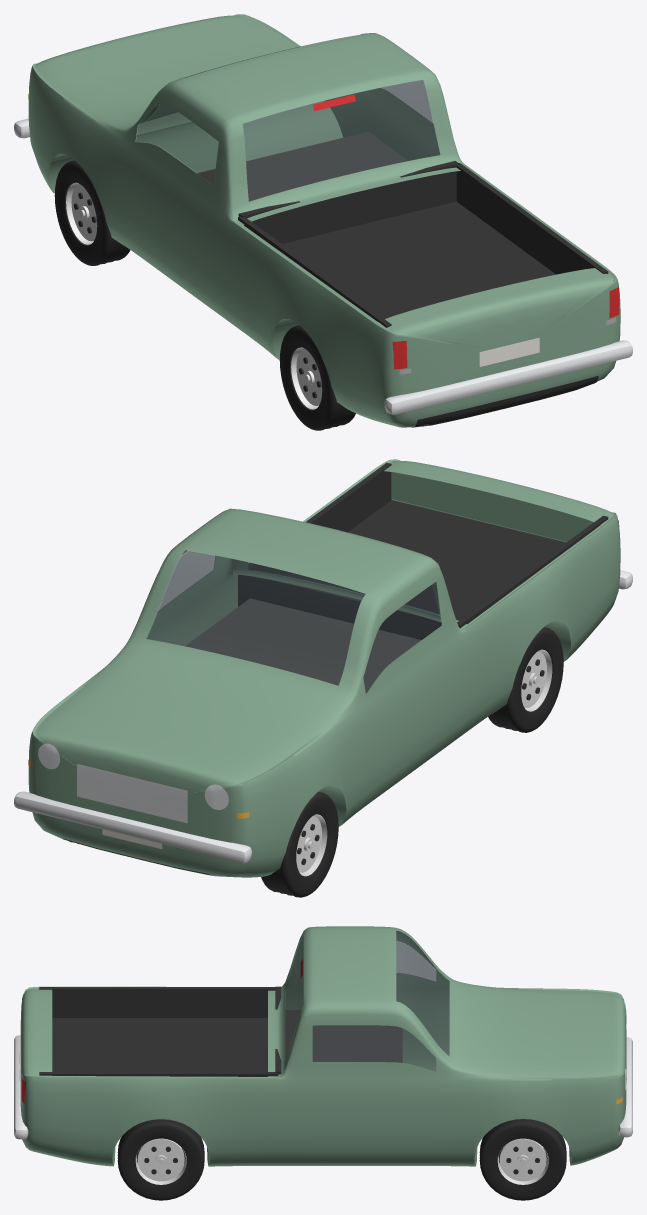
Rendered from traffic_pickup.glb.
3 renders of one model, top to bottom at view 1: azimuth 30°, elevation 25°; view 2: azimuth 150°, elevation 25°; view 3: azimuth 270°, elevation 25°, orthographic. The views are drawn at different scales.
Visible parts, largest first — view 1: Body, Glass, Interior, Wheel_RL, Wheel_FL, Lights_Tail; view 2: Body, Glass, Interior, Wheel_FL, Wheel_RL, Lights_Head; view 3: Body, Glass, Wheel_FR, Wheel_RR, Interior.
Boxes of the visible parts, box(x1,y1,x2,y2) form: Body: box(14, 14, 632, 427); Glass: box(136, 34, 439, 201); Interior: box(197, 132, 407, 201); Wheel_RL: box(279, 325, 355, 430); Wheel_FL: box(54, 160, 130, 265); Lights_Tail: box(392, 287, 619, 369); Body: box(14, 459, 632, 877); Glass: box(147, 550, 440, 692); Interior: box(185, 598, 421, 693); Wheel_FL: box(261, 792, 338, 897); Wheel_RL: box(488, 627, 563, 732); Lights_Head: box(38, 743, 228, 809); Body: box(14, 926, 632, 1166); Glass: box(285, 931, 449, 1071); Wheel_FR: box(479, 1119, 566, 1200); Wheel_RR: box(117, 1119, 204, 1200); Interior: box(285, 1010, 402, 1062).
Size of the model in its own units: 1.92 by 1.78 by 5.13.
